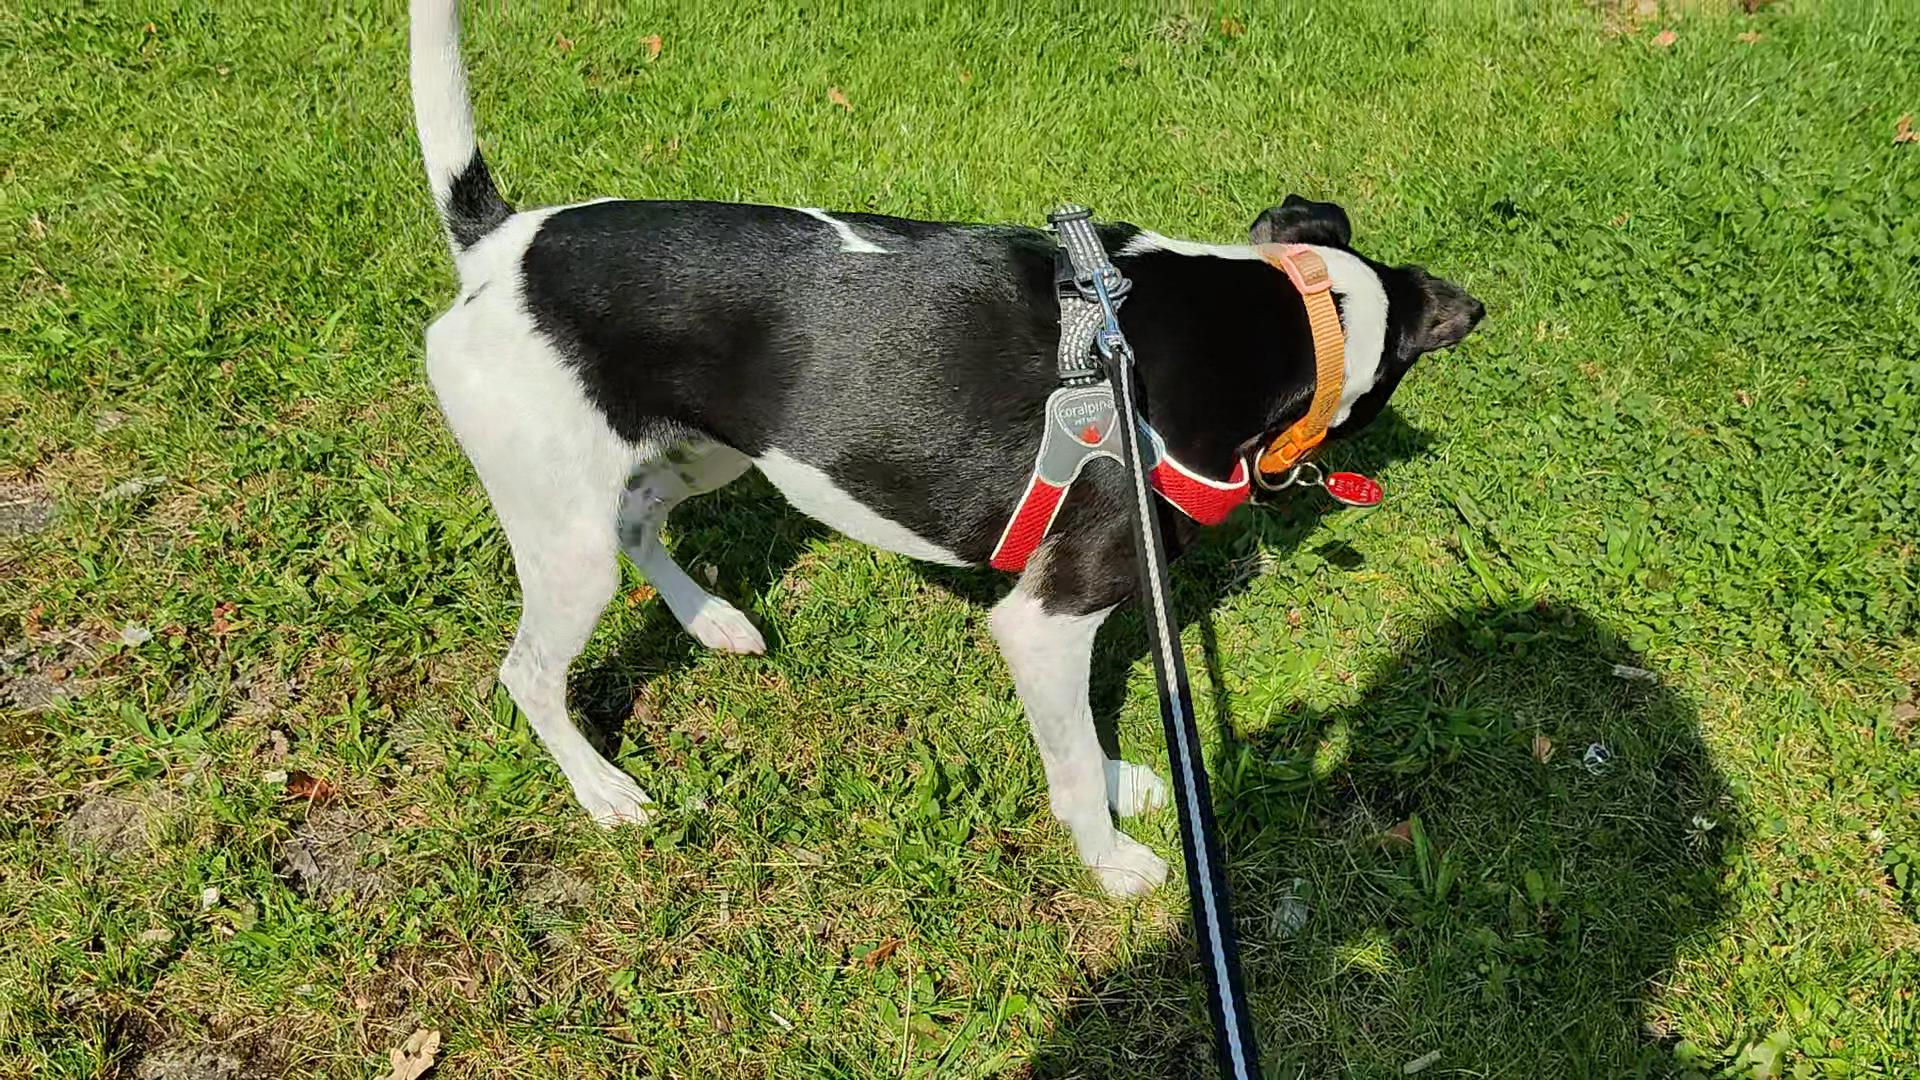Dog: (396, 0, 1484, 909)
